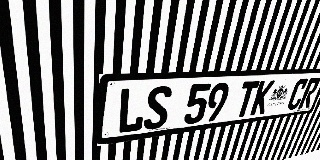5: (183, 83, 212, 125)
9: (203, 82, 231, 122)
C: (285, 78, 310, 111)
K: (249, 80, 275, 116)
L: (117, 87, 147, 134)
R: (298, 78, 320, 109)
S: (143, 85, 173, 131)
T: (233, 81, 260, 118)
